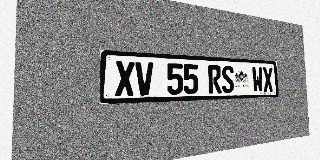5: (167, 63, 183, 95), (183, 64, 199, 94)
R: (208, 65, 222, 94)
S: (221, 65, 234, 93)
V: (135, 62, 154, 96)
W: (252, 67, 263, 92)
X: (115, 61, 135, 96), (262, 67, 273, 92)
